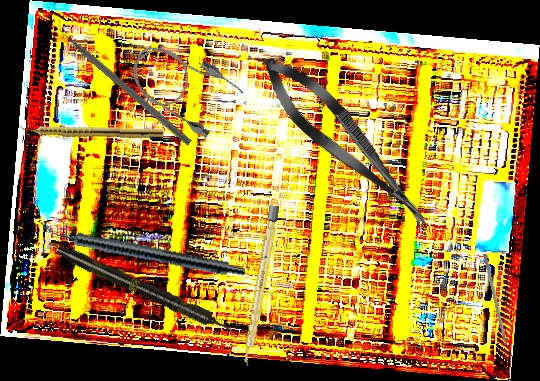Cannula: (119, 28, 248, 144)
Chopper: (51, 15, 199, 146)
Handpiece: (54, 242, 237, 339), (37, 221, 248, 280), (18, 123, 165, 139)
Hook Surgical: (482, 253, 512, 362)
Micro Scissor: (249, 43, 445, 245)
Scalpel Handle: (241, 204, 280, 368)
